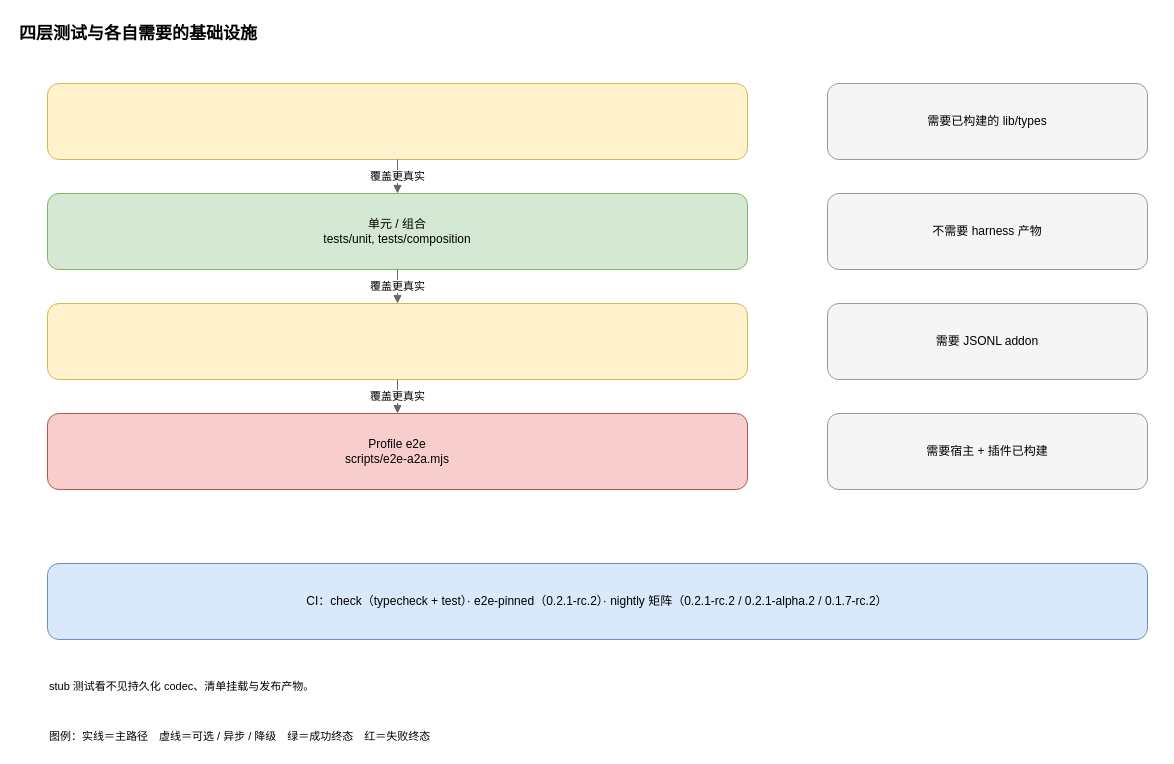
Some shapes in this 1174 by 764 pixel diagram are drawn without their labels. The centre of each missing label's shape, as x and y in pixels:
"真实持久化 tests/integration/persistence.spec.ts" goes at [397,341].
"镜像检查 tests/types/mirrors.typecheck.ts" goes at [397,121].
